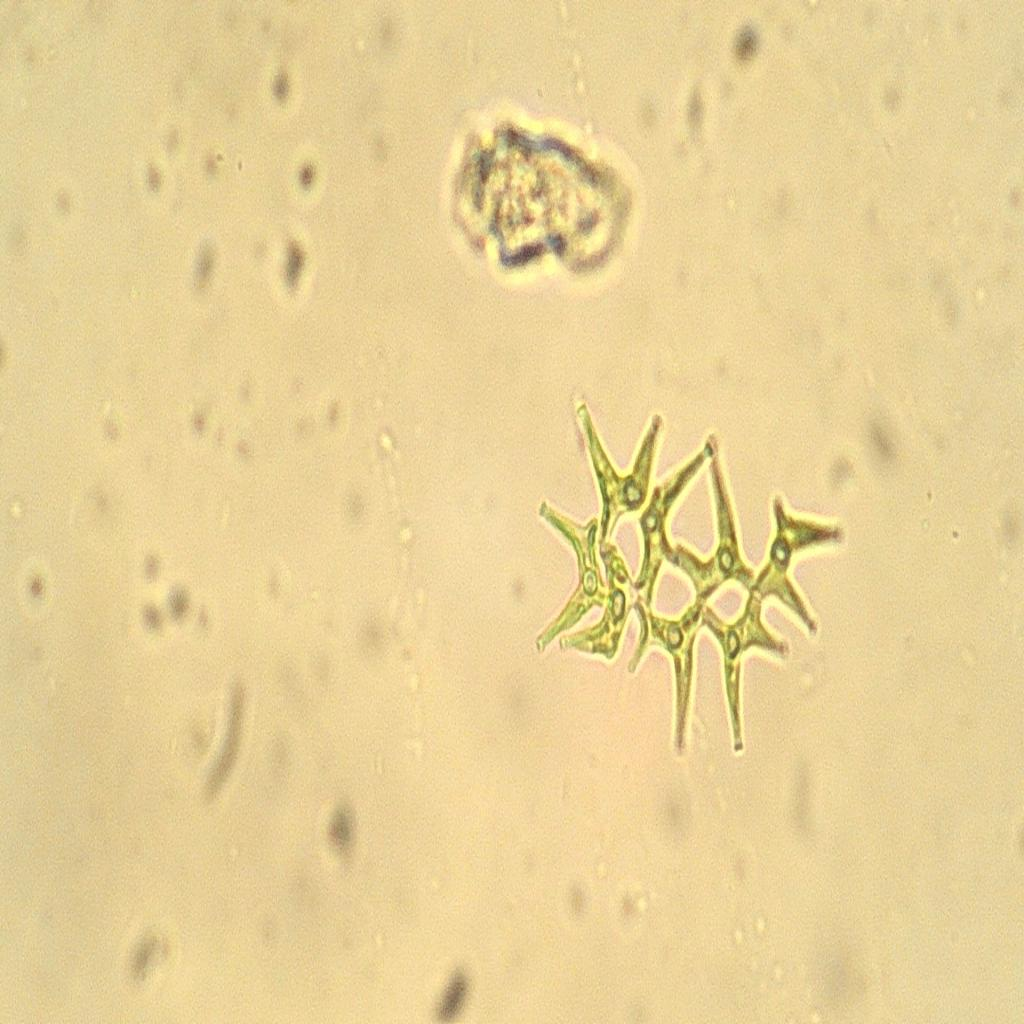Pediastrum_CFI: (527, 384, 852, 768)
